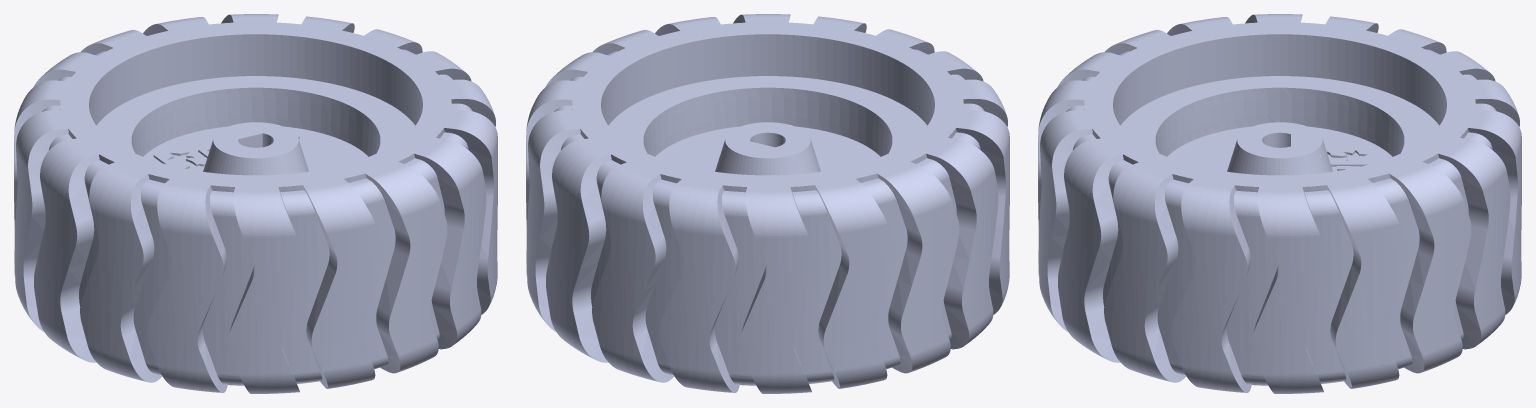
The model's file is pololu-wheel-42x19mm.dae.
The picture shows the model from 3 angles, left to right: view 1: azimuth 30°, elevation 25°; view 2: azimuth 150°, elevation 25°; view 3: azimuth 270°, elevation 25°; orthographic projection.
Visible parts, largest first — view 1: node0; view 2: node0; view 3: node0.
Boxes of the visible parts, <box> form: node0: <box>14,14,497,393</box>; node0: <box>526,14,1009,393</box>; node0: <box>1038,14,1521,393</box>.
Size of the model in its own units: 0.042 by 0.042 by 0.019.
